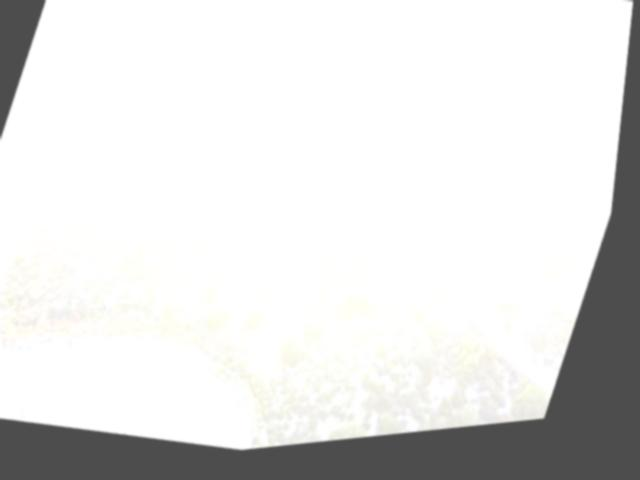iha: (433, 247, 597, 359)
